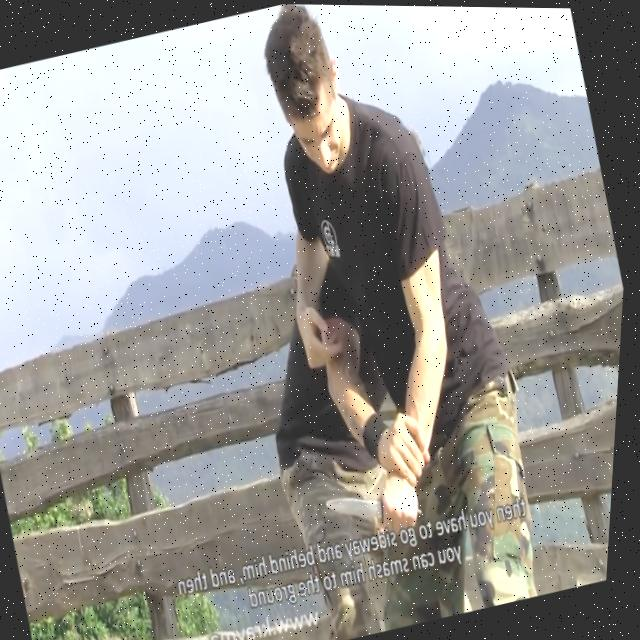knife: (328, 480, 397, 545)
